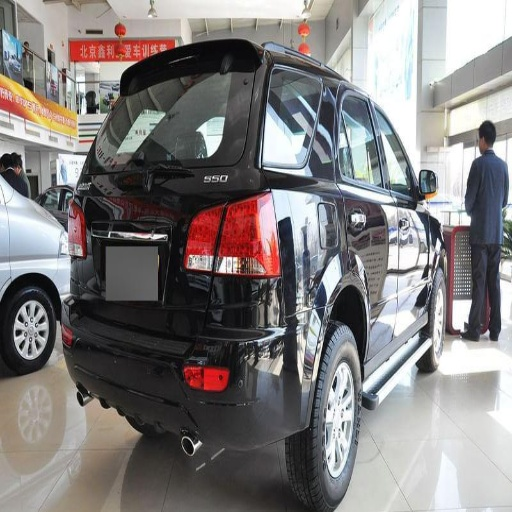back_bumper: (131, 306, 309, 453)
back_left_light: (181, 214, 216, 273)
back_right_door: (337, 92, 395, 372)
trunk: (149, 255, 245, 334), (178, 173, 256, 218)
